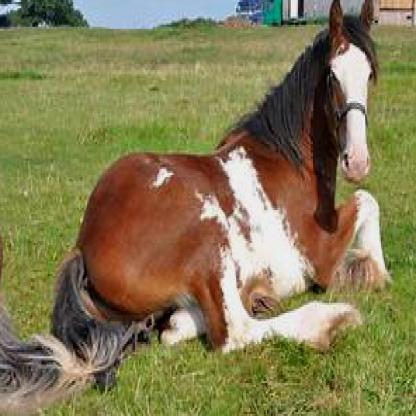horse: (79, 0, 389, 354)
